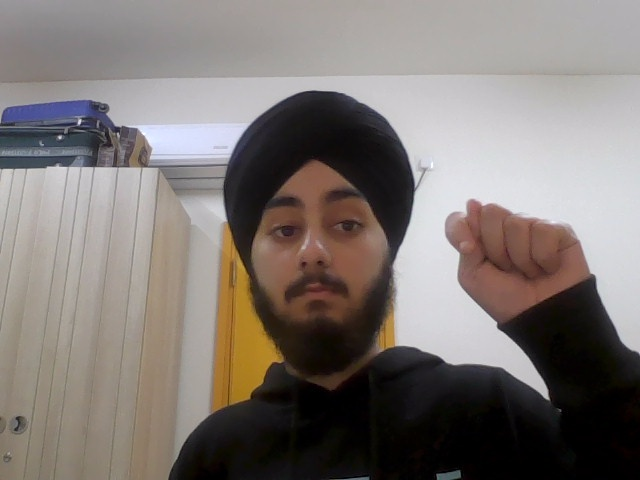Bathroom: (440, 193, 598, 321)
